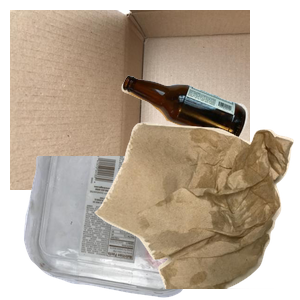cardboard: (10, 10, 250, 190)
glass: (119, 73, 300, 207)
plastic: (21, 156, 226, 300)
trash: (92, 120, 300, 300)
